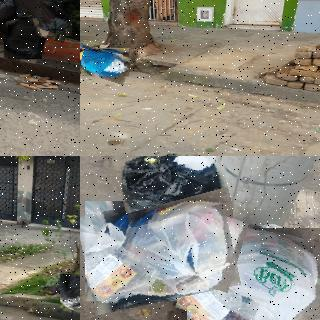Garbage: (81, 194, 237, 308), (181, 219, 320, 320), (115, 156, 227, 222), (14, 0, 75, 39), (80, 43, 130, 80), (2, 19, 44, 61), (0, 0, 33, 39), (58, 272, 80, 309)
